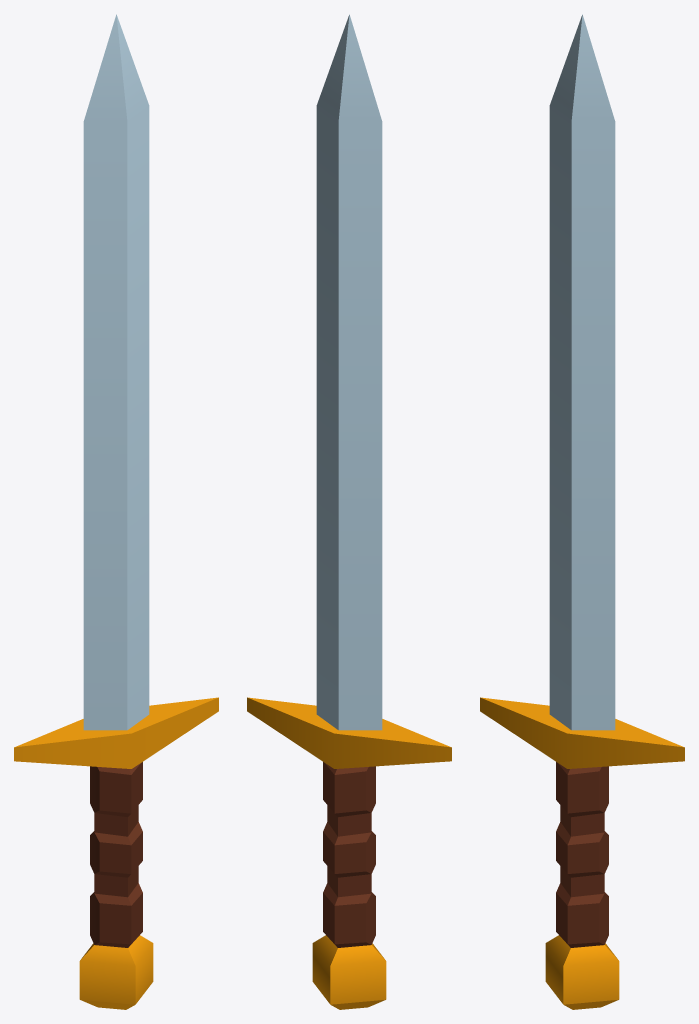
Rendered from Sword.fbx.
3 renders of one model, left to right at view 1: azimuth 30°, elevation 25°; view 2: azimuth 150°, elevation 25°; view 3: azimuth 330°, elevation 25°, orthographic.
Parts seen in each view (by area): view 1: Sword; view 2: Sword; view 3: Sword.
Boxes of the visible parts, bbox=[...] form: Sword: bbox=[14, 14, 218, 1009]; Sword: bbox=[247, 14, 451, 1009]; Sword: bbox=[480, 14, 684, 1009].
Size of the model in its own units: 879 by 4057 by 284.
